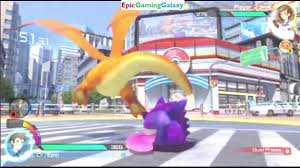charizard: (6, 1, 193, 118)
